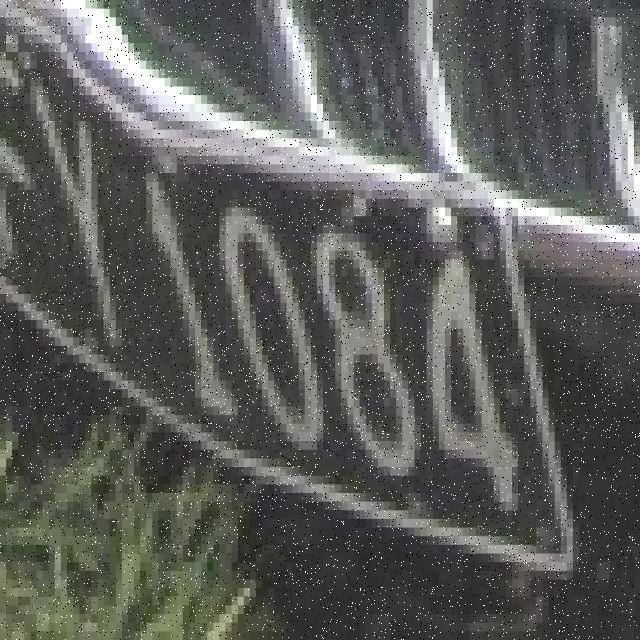LicensePlate: (0, 0, 573, 579)
